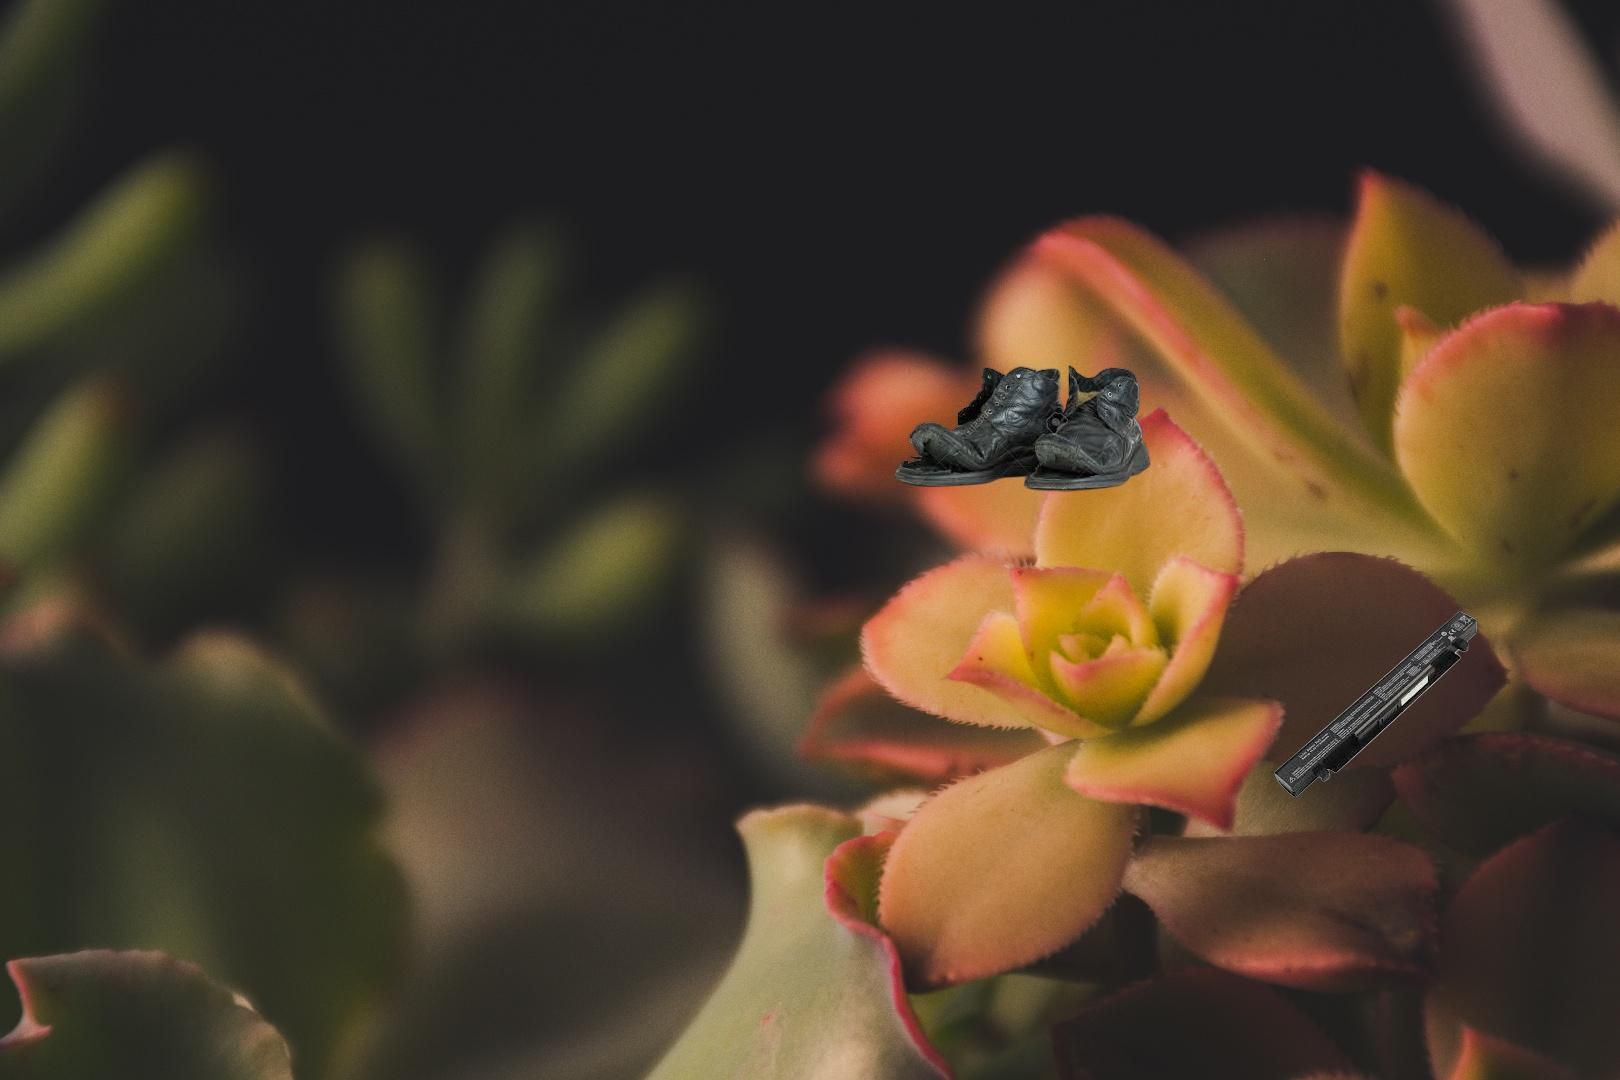battery: (1270, 607, 1480, 800)
shoes: (891, 363, 1154, 493)
